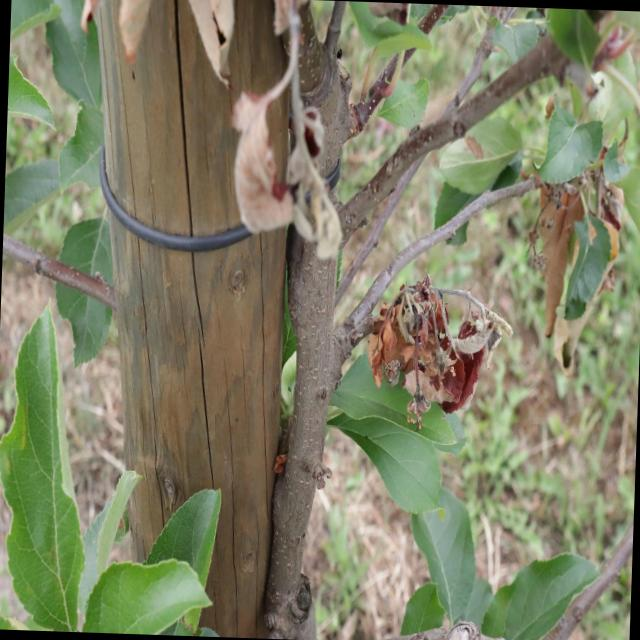-FireBlight-: (354, 268, 511, 436), (225, 0, 325, 249), (534, 153, 625, 341), (156, 0, 242, 90), (111, 0, 154, 81)
